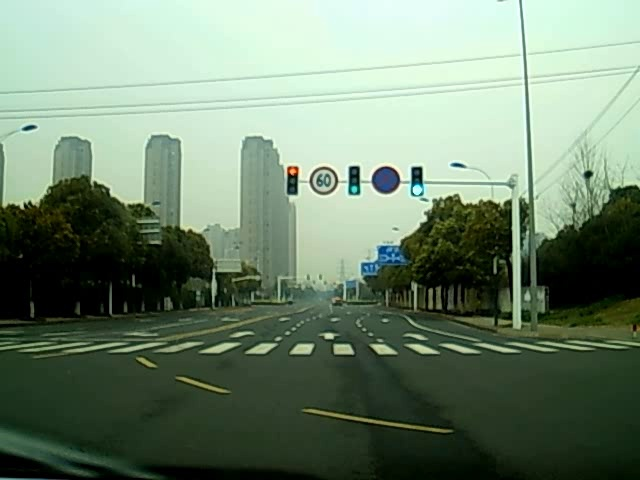Traffic_Light_go: (411, 168, 425, 198), (348, 165, 360, 196)
Traffic_Light_stop: (286, 164, 297, 195)
